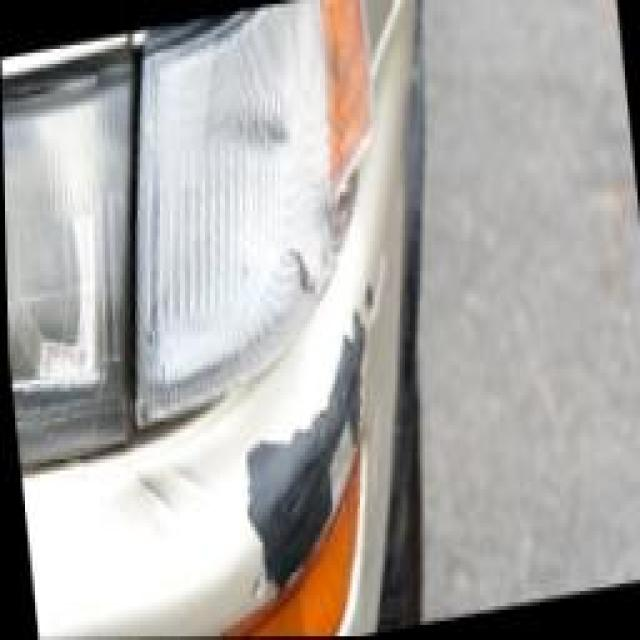Bumper: (90, 264, 406, 639)
Light: (193, 65, 373, 365)
